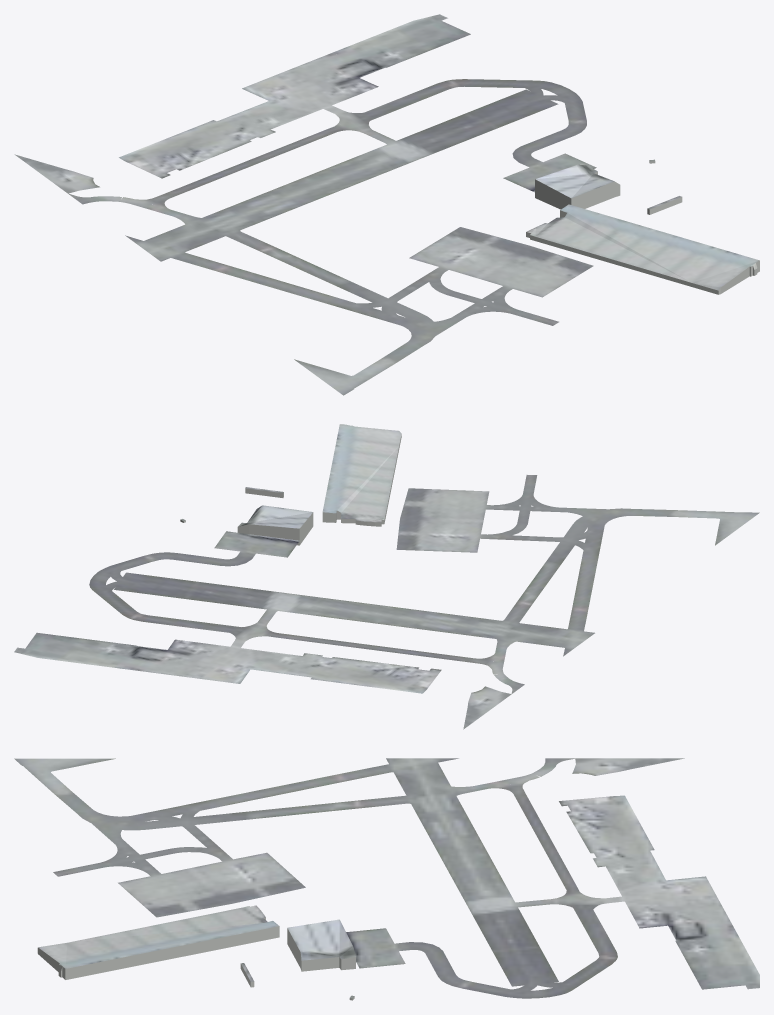
The model's file is LFSB_2_-3.glb.
3 renders of one model, top to bottom at view 1: azimuth 30°, elevation 25°; view 2: azimuth 150°, elevation 25°; view 3: azimuth 270°, elevation 25°, orthographic. The views are drawn at different scales.
Parts seen in each view (by area): view 1: pavement_LFSB_pavement_5214_2542, pavement_LFSB_pavement_5214_2541, pavement_LFSB_pavement_5215_2542, building_BATIMENT0000000358877838, building_BATIMENT0000000216851139; view 2: pavement_LFSB_pavement_5214_2542, pavement_LFSB_pavement_5214_2541, pavement_LFSB_pavement_5215_2542, building_BATIMENT0000000358877838, building_BATIMENT0000000216851139; view 3: pavement_LFSB_pavement_5214_2542, pavement_LFSB_pavement_5214_2541, pavement_LFSB_pavement_5215_2542, building_BATIMENT0000000358877838, building_BATIMENT0000000216851139.
Part boxes in pixels (x1,y1,x2,y2): pavement_LFSB_pavement_5214_2542: (14, 52, 506, 266); pavement_LFSB_pavement_5214_2541: (200, 227, 593, 395); pavement_LFSB_pavement_5215_2542: (333, 14, 596, 187); building_BATIMENT0000000358877838: (526, 204, 759, 294); building_BATIMENT0000000216851139: (535, 164, 620, 209); pavement_LFSB_pavement_5214_2542: (133, 555, 594, 729); pavement_LFSB_pavement_5214_2541: (396, 475, 759, 617); pavement_LFSB_pavement_5215_2542: (14, 531, 294, 669); building_BATIMENT0000000358877838: (322, 424, 401, 526); building_BATIMENT0000000216851139: (237, 505, 313, 545); pavement_LFSB_pavement_5214_2542: (356, 758, 734, 928); pavement_LFSB_pavement_5214_2541: (14, 758, 355, 917); pavement_LFSB_pavement_5215_2542: (356, 929, 759, 998); building_BATIMENT0000000358877838: (37, 905, 279, 979); building_BATIMENT0000000216851139: (287, 919, 355, 971).
Bounding box in the file's own units: 704 × 26.2 × 924.
3 materials, 2 textured.
